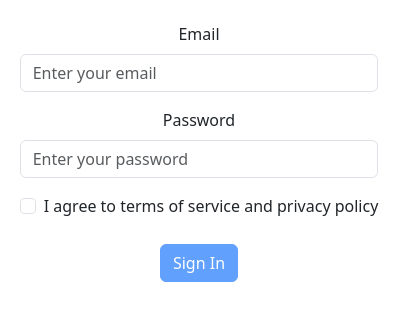
Scenario: login page › error messages › email error
Type "erdem.guntay@wi" into the field with test id "email-input" at (200, 73), box [20,54,379,92]
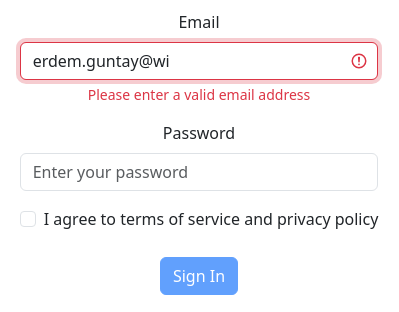
Expected: the text "Please enter a valid email address" is shown, [88,84,310,104]
